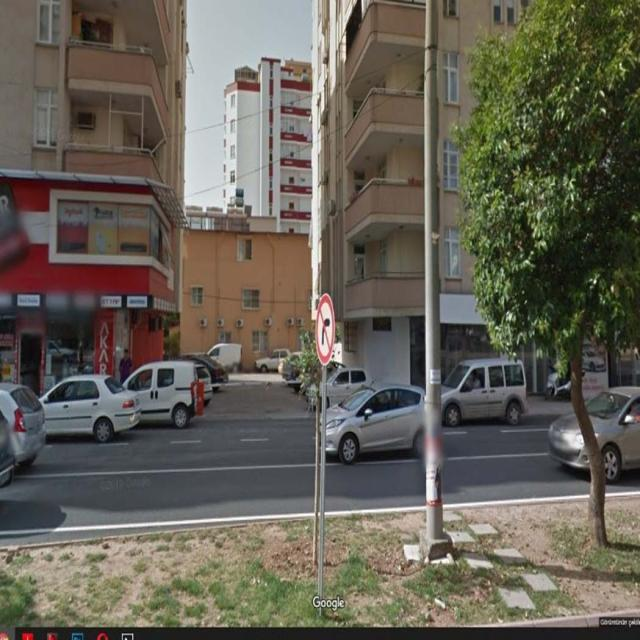sagadonulmez: (315, 292, 335, 366)
